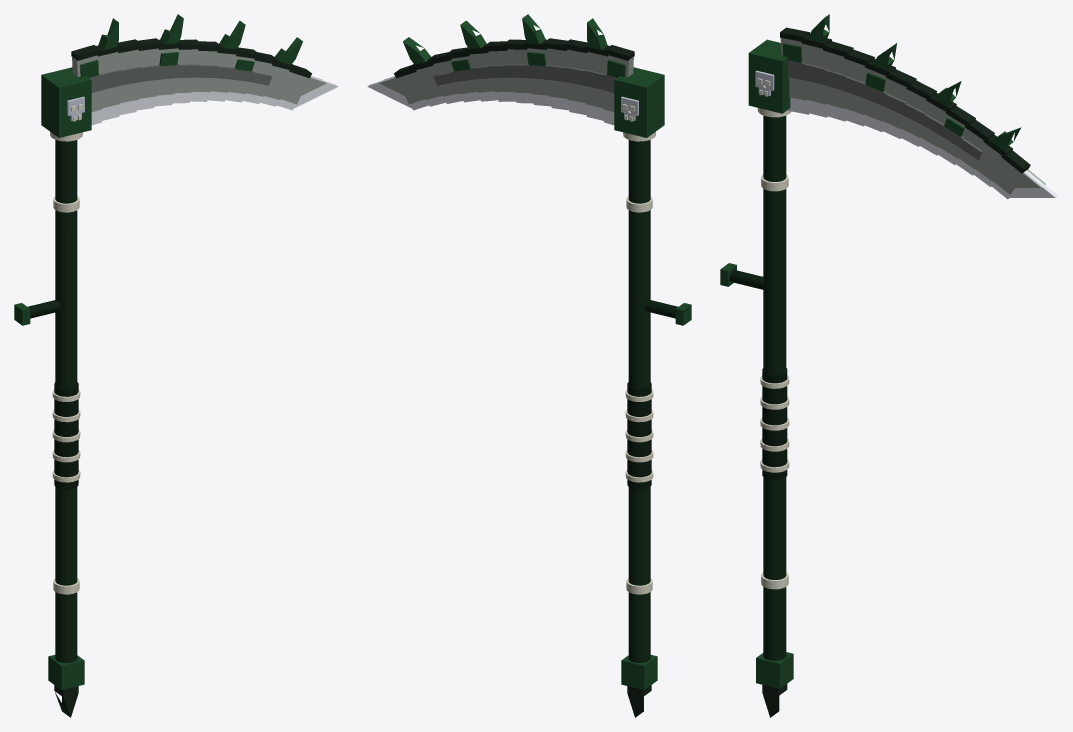
The picture shows the model from 3 angles, left to right: view 1: azimuth 30°, elevation 25°; view 2: azimuth 150°, elevation 25°; view 3: azimuth 330°, elevation 25°; orthographic projection. The views are drawn at different scales.
Visible parts, largest first — view 1: lich-scythe; view 2: lich-scythe; view 3: lich-scythe.
Part boxes in pixels (<box>): lich-scythe: <box>14,14,338,717</box>; lich-scythe: <box>367,14,691,717</box>; lich-scythe: <box>720,14,1058,717</box>.
Size of the model in its own units: 0.7251 by 1.48 by 0.0874.
